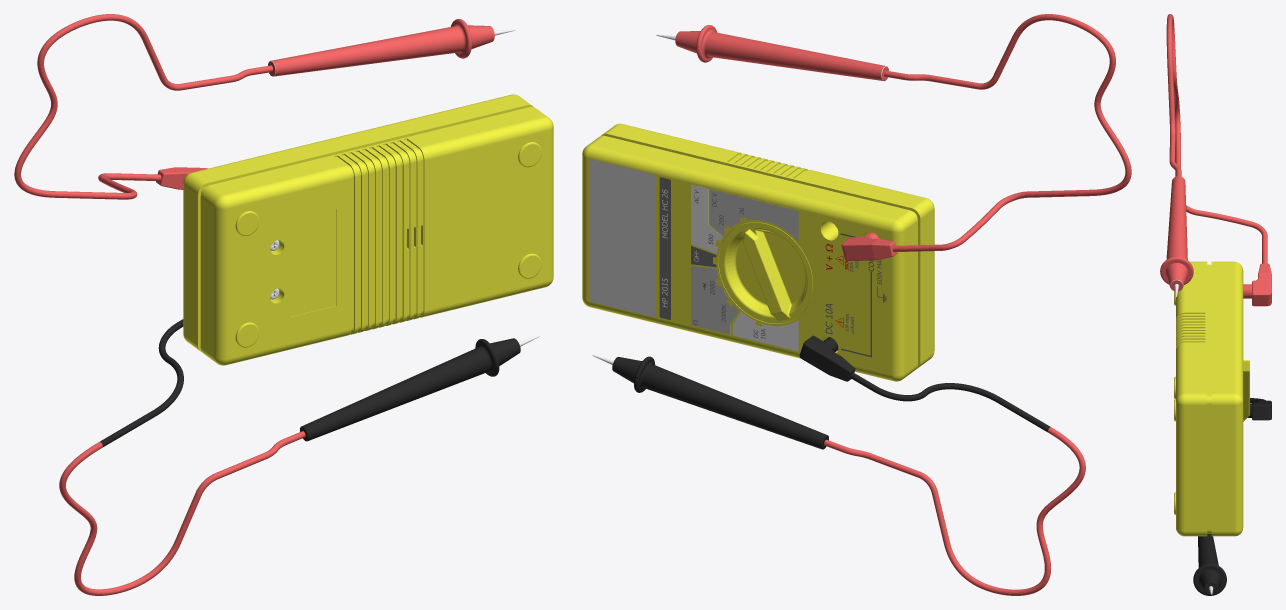
The model's file is multimeter.glb.
3 renders of one model, left to right at view 1: azimuth 30°, elevation 25°; view 2: azimuth 150°, elevation 25°; view 3: azimuth 270°, elevation 25°, orthographic. The views are drawn at different scales.
Parts seen in each view (by area): view 1: Node2, Node12, Node13; view 2: Node2, Node12, Node11, Node13, Node6, Node7, Node1; view 3: Node2, Node12, Node13.
Part boxes in pixels (x1=…): Node2: x1=183, y1=94, x2=553, y2=365; Node12: x1=14, y1=14, x2=494, y2=595; Node13: x1=100, y1=319, x2=520, y2=446; Node2: x1=582, y1=123, x2=934, y2=381; Node12: x1=675, y1=14, x2=1131, y2=595; Node11: x1=589, y1=38, x2=887, y2=316; Node13: x1=612, y1=335, x2=1050, y2=449; Node6: x1=691, y1=189, x2=798, y2=334; Node7: x1=691, y1=184, x2=798, y2=351; Node1: x1=659, y1=177, x2=858, y2=338; Node2: x1=1174, y1=261, x2=1249, y2=536; Node12: x1=1160, y1=14, x2=1271, y2=306; Node13: x1=1193, y1=398, x2=1271, y2=595.
Size of the model in its own units: 236 by 249 by 49.81.
